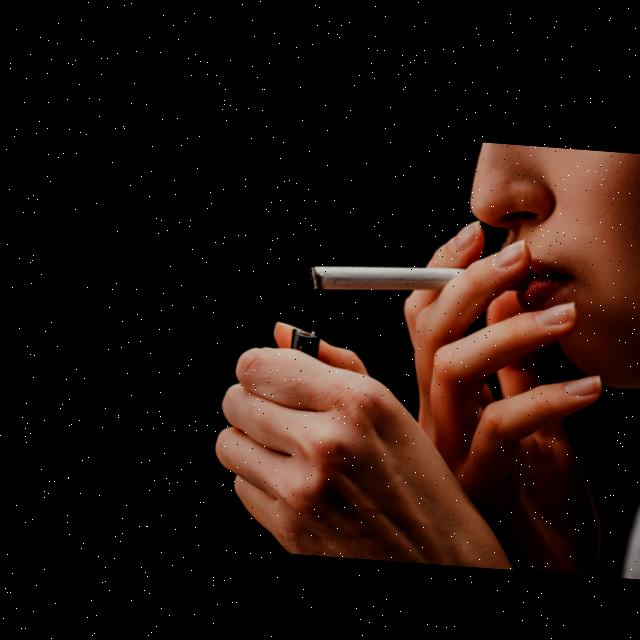cigarette: (306, 251, 464, 294)
